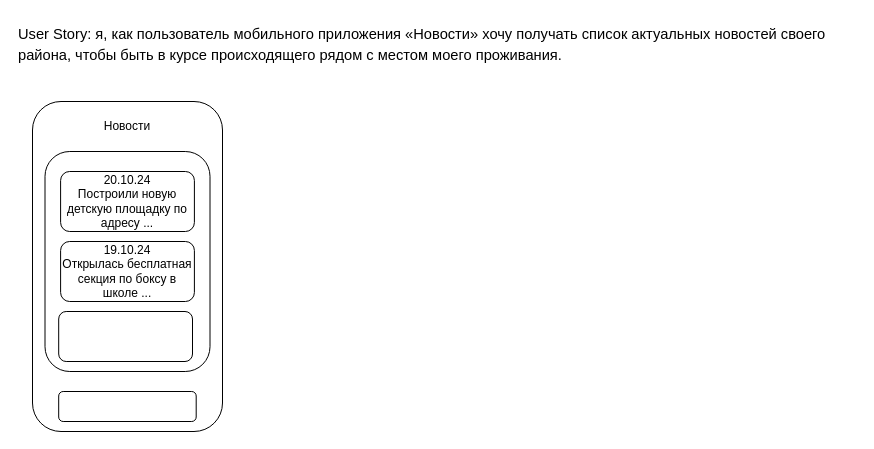
This 874x449 diagram has some shape labels left out. The box of each missing label's shape, as (x1, y1, x2, y2) in pixels:
16.10.24 Закончен ремонт ФОКа ...: (58, 310, 192, 362)
Обновить: (58, 390, 196, 422)
